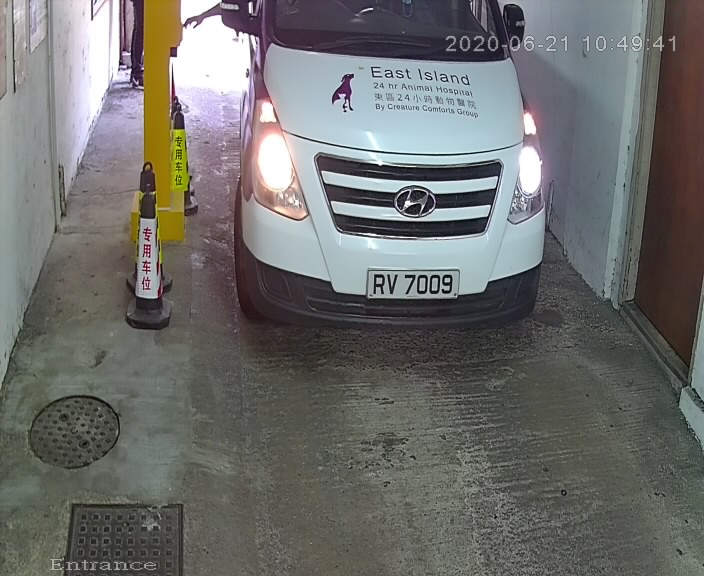privatecar: (211, 1, 574, 348)
